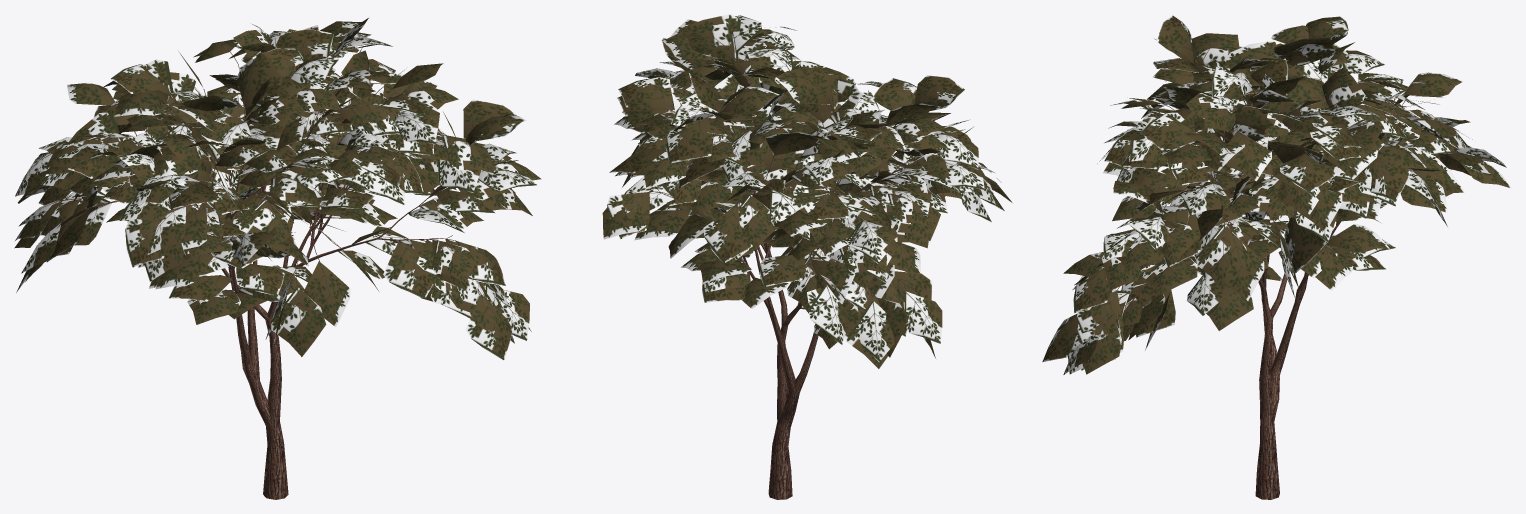
Rendered from tree.glb.
The picture shows the model from 3 angles, left to right: view 1: azimuth 30°, elevation 25°; view 2: azimuth 150°, elevation 25°; view 3: azimuth 270°, elevation 25°; orthographic projection. The views are drawn at different scales.
Parts seen in each view (by area): view 1: Tree_polySurface1 g1 g2 polySurface1, Tree_polySurface1 g1 polySurface1; view 2: Tree_polySurface1 g1 g2 polySurface1, Tree_polySurface1 g1 polySurface1; view 3: Tree_polySurface1 g1 g2 polySurface1, Tree_polySurface1 g1 polySurface1.
Boxes of the visible parts, bbox=[...] form: Tree_polySurface1 g1 g2 polySurface1: bbox=[14, 18, 541, 359]; Tree_polySurface1 g1 polySurface1: bbox=[43, 47, 493, 499]; Tree_polySurface1 g1 g2 polySurface1: bbox=[602, 14, 1013, 368]; Tree_polySurface1 g1 polySurface1: bbox=[644, 53, 939, 499]; Tree_polySurface1 g1 g2 polySurface1: bbox=[1042, 15, 1511, 374]; Tree_polySurface1 g1 polySurface1: bbox=[1117, 52, 1453, 499].
Bounding box in the file's own units: 3.63 × 3.82 × 3.55.
Materials: 2 (2 with a texture image).
